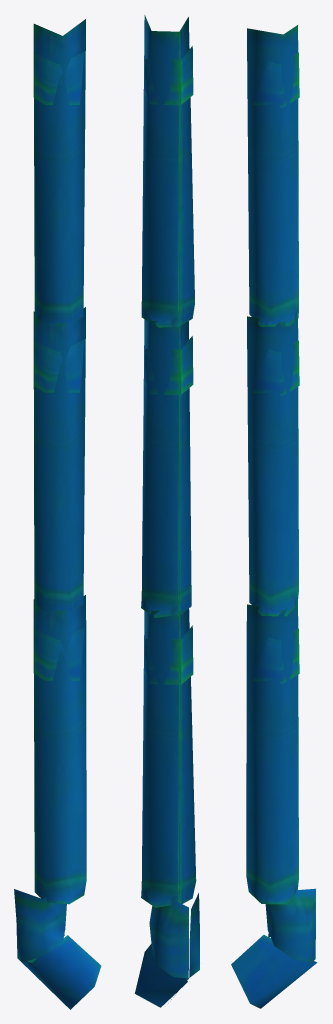
Rendered from downpipe_lod1.glb.
The picture shows the model from 3 angles, left to right: view 1: azimuth 90°, elevation 25°; view 2: azimuth 210°, elevation 25°; view 3: azimuth 270°, elevation 25°; orthographic projection.
Parts seen in each view (by area): view 1: downpipe_lod1; view 2: downpipe_lod1; view 3: downpipe_lod1.
Part boxes in pixels (x1,y1,x2,y2): downpipe_lod1: [14, 19, 101, 1009]; downpipe_lod1: [135, 15, 199, 1007]; downpipe_lod1: [231, 25, 317, 1008].
Bounding box in the file's own units: 0.1739 × 3.36 × 0.2712.
Materials: 1 (1 with a texture image).
